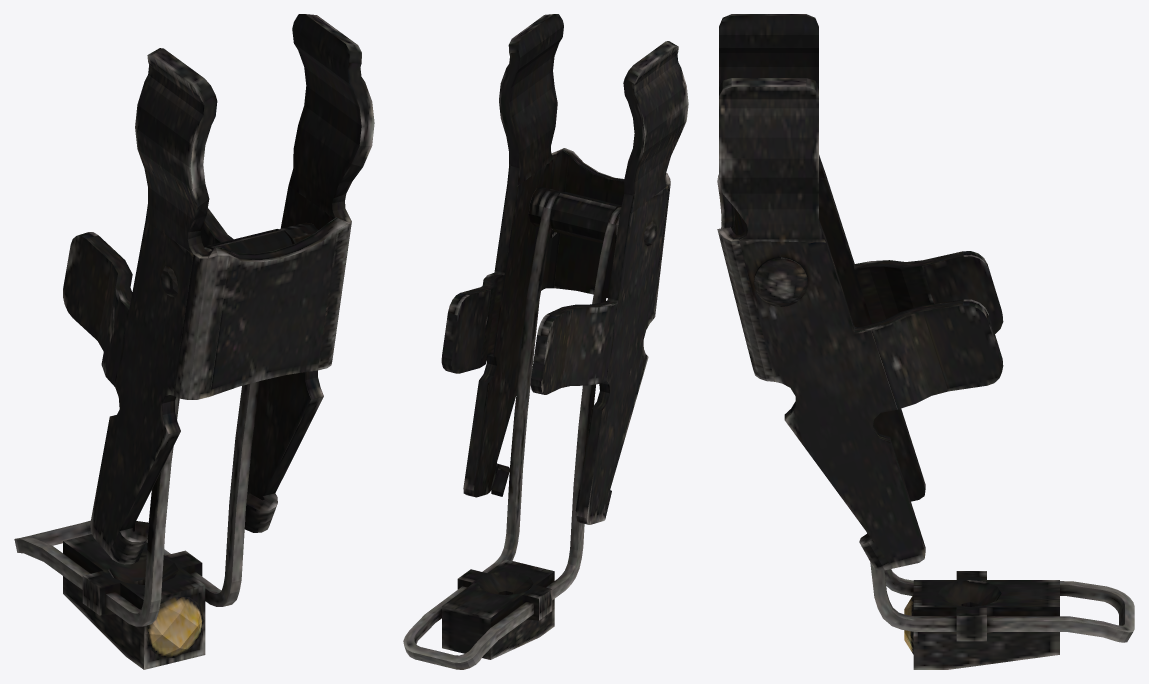
3 views of the same model, side by side, from view 1: azimuth 30°, elevation 25°; view 2: azimuth 150°, elevation 25°; view 3: azimuth 270°, elevation 25° (orthographic). The views are drawn at different scales.
Parts seen in each view (by area): view 1: TW_5a0f096dfcdbcb0176308b15_PZ_Import; view 2: TW_5a0f096dfcdbcb0176308b15_PZ_Import; view 3: TW_5a0f096dfcdbcb0176308b15_PZ_Import.
Part boxes in pixels (box(x1,y1,x2,y2)): TW_5a0f096dfcdbcb0176308b15_PZ_Import: box(14, 14, 374, 669); TW_5a0f096dfcdbcb0176308b15_PZ_Import: box(403, 14, 688, 669); TW_5a0f096dfcdbcb0176308b15_PZ_Import: box(717, 14, 1134, 669).
Bounding box in the file's own units: 0.0099 × 0.0215 × 0.0347.
Materials: 1 (1 with a texture image).
